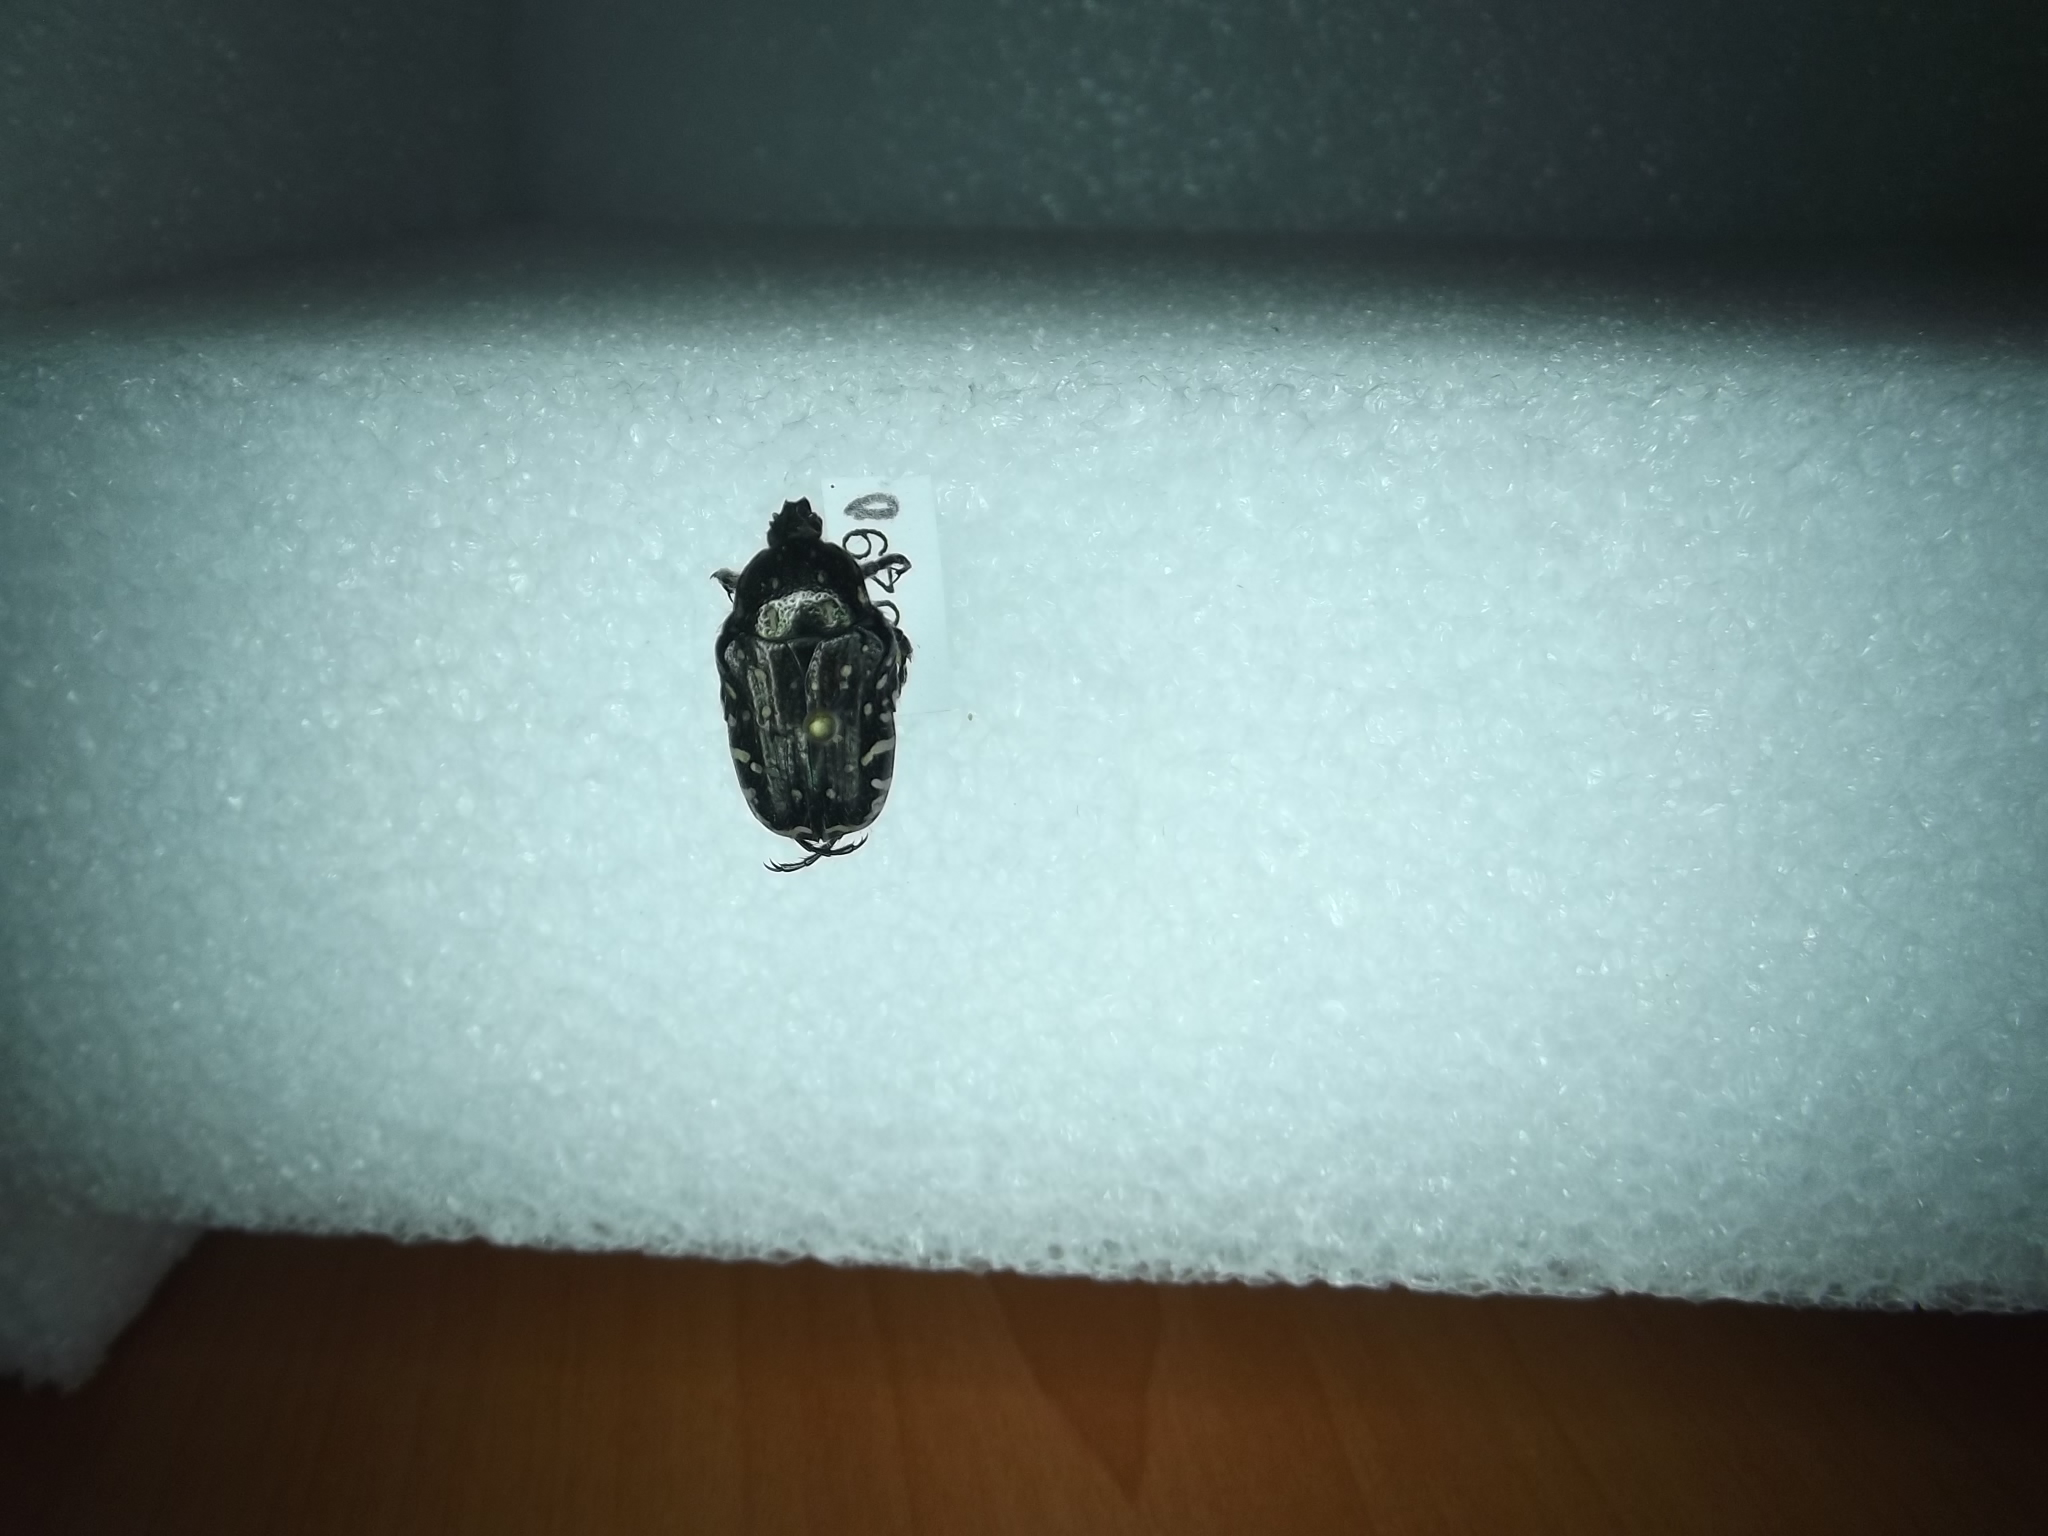Oxythyrea_funesta: (693, 494, 918, 883)
